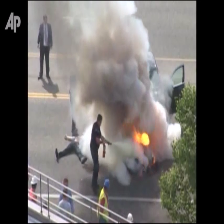fire_h: (131, 125, 150, 147)
